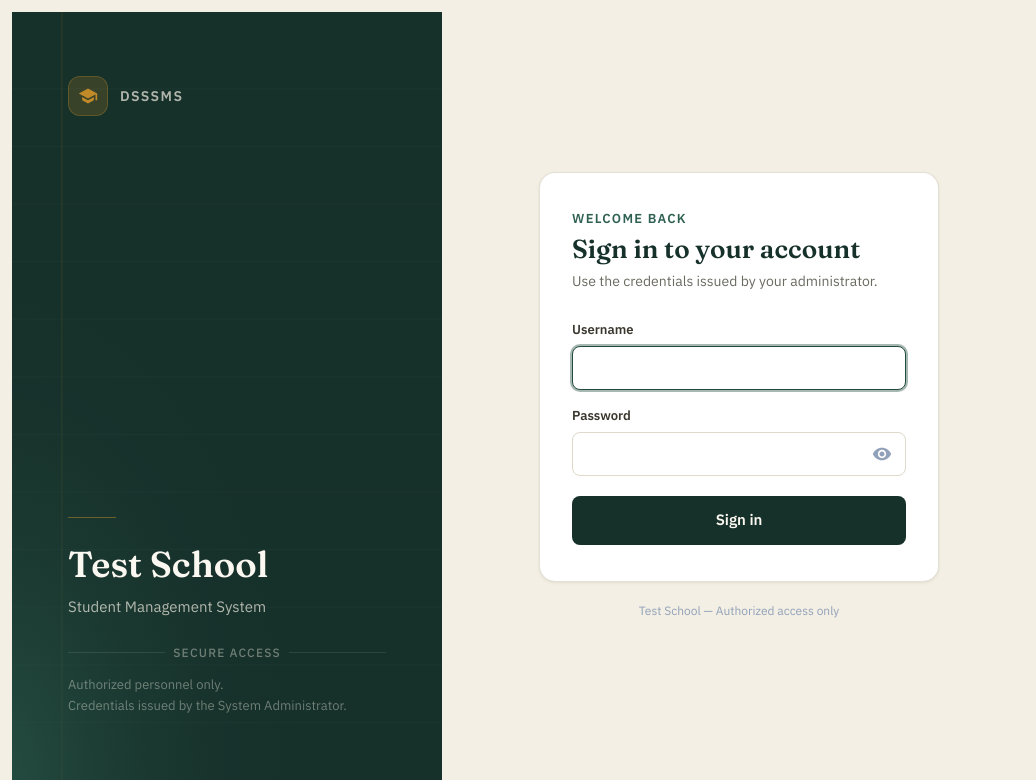
it: C. LoginPage › shows server error when login throws
Type "bad" into the field labelled "Username".
click(739, 368); type("bad")  # box top-left (572, 346), bottom-right (906, 390)
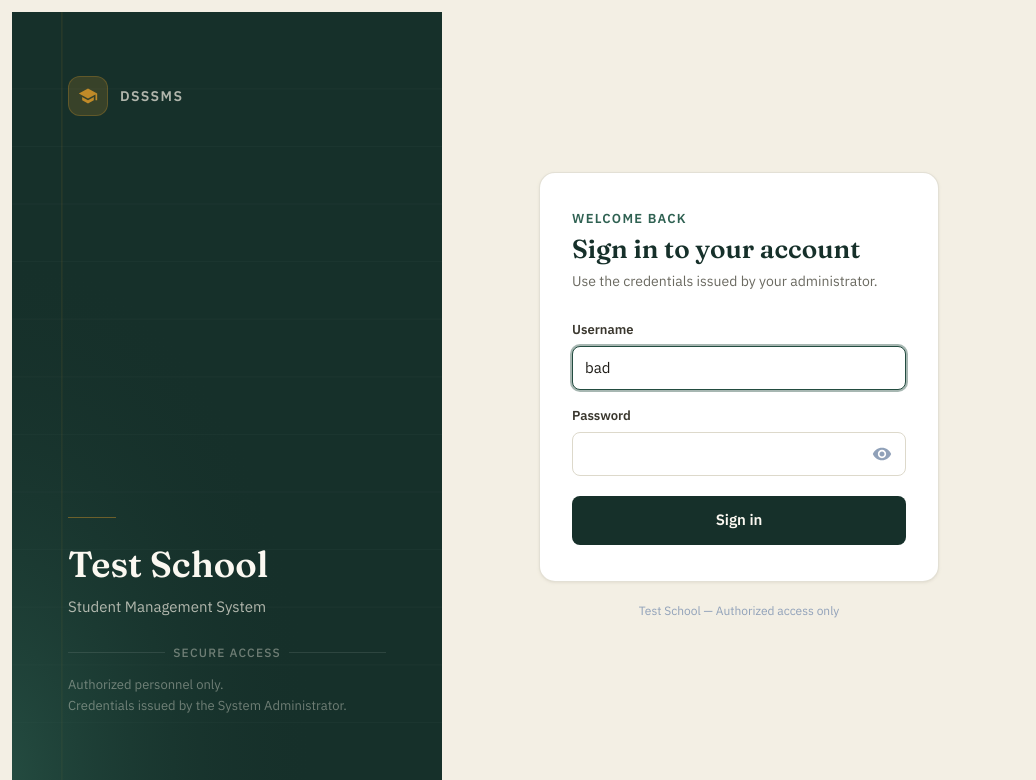
Type "wrong" into the password field labelled "Password".
click(739, 454); type("wrong")  # box top-left (572, 432), bottom-right (906, 476)
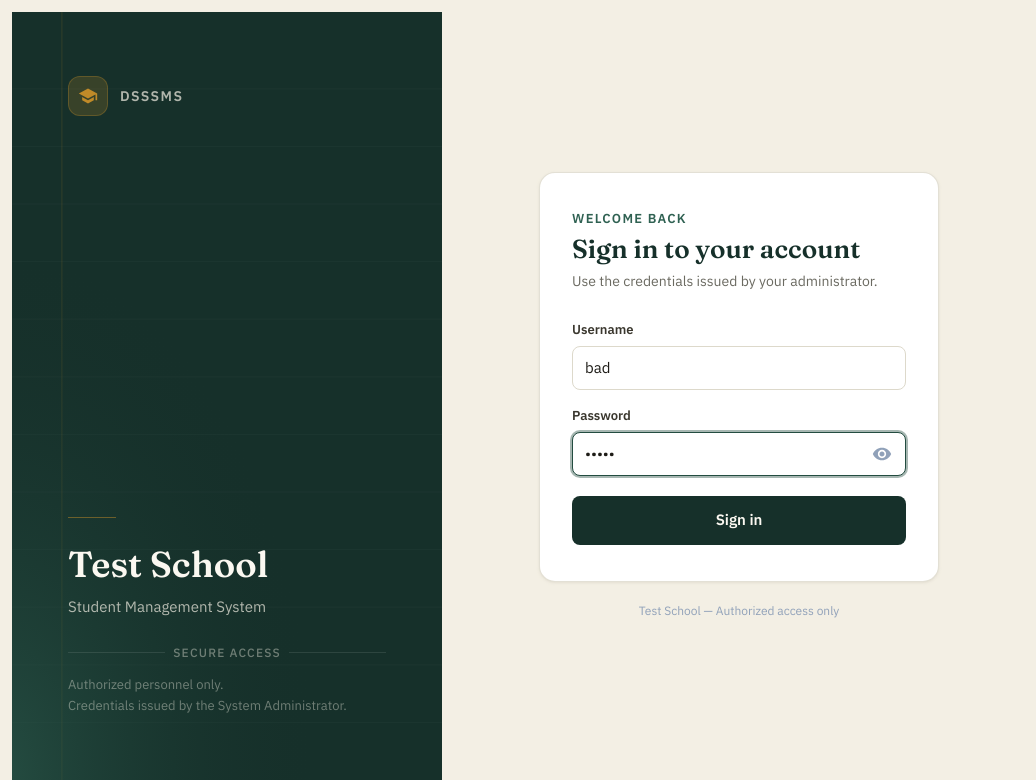
Click the button "Sign in".
click(739, 521)  # box top-left (572, 496), bottom-right (906, 545)
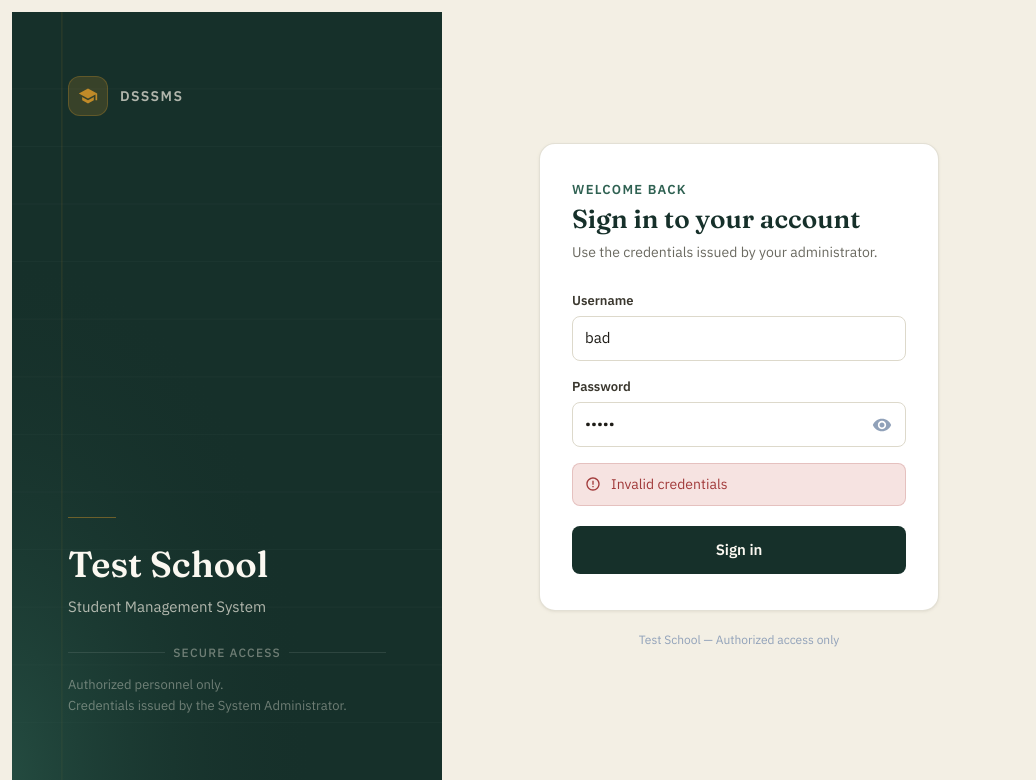
Check: the message reads "Invalid credentials", box top-left (611, 475), bottom-right (728, 493)
